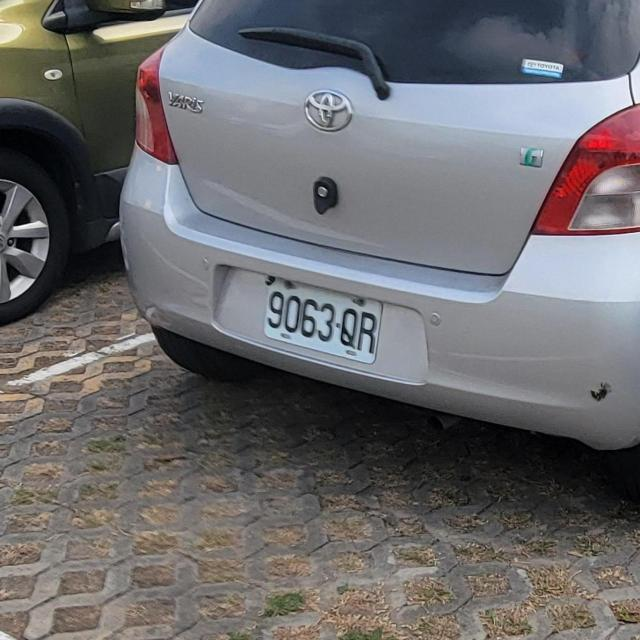W: (260, 276, 386, 364)
